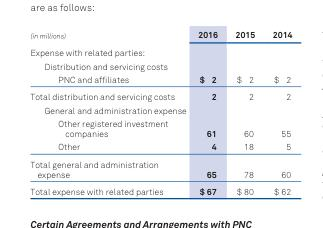table: (29, 28, 291, 196)
table column: (29, 28, 185, 196), (185, 28, 225, 196), (225, 28, 263, 196), (263, 28, 291, 196)
table column header: (29, 28, 291, 43)
table projected row header: (29, 43, 291, 59), (29, 59, 291, 72), (29, 103, 291, 116)
table row: (29, 155, 291, 182), (29, 116, 291, 139), (29, 43, 291, 59), (29, 87, 291, 103), (29, 139, 291, 155), (29, 28, 291, 43), (29, 72, 291, 87), (29, 182, 291, 196), (29, 59, 291, 72), (29, 103, 291, 116)
